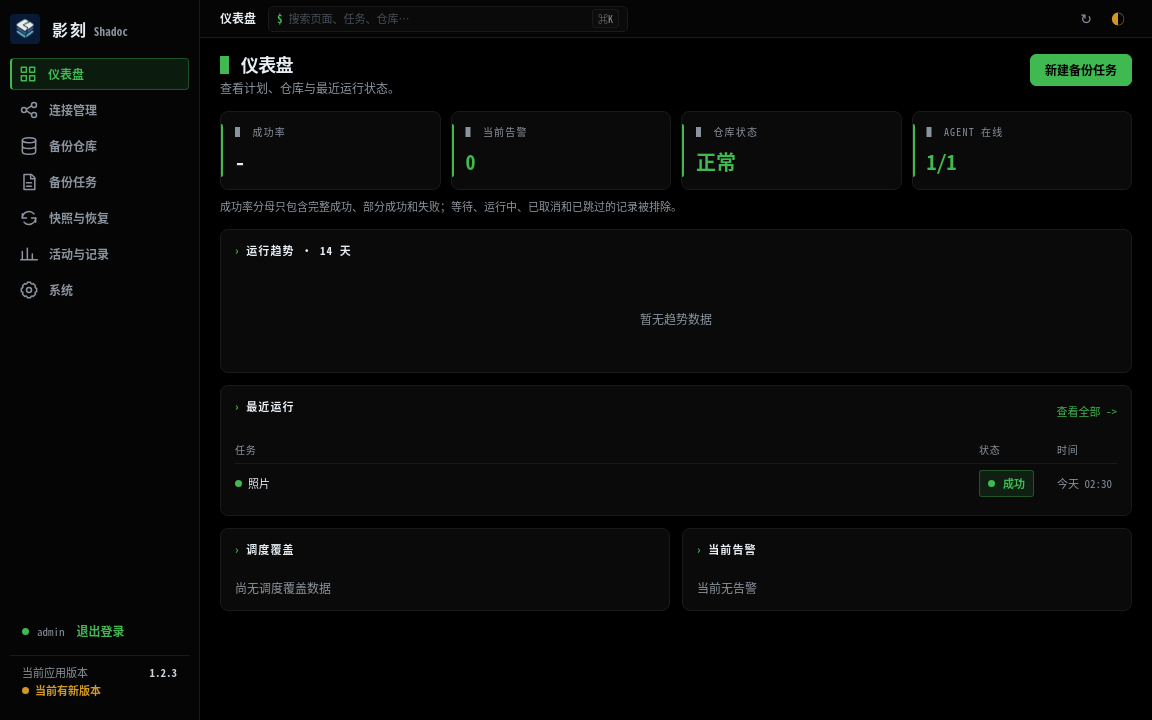
Test case: restic-control administration › restarts a managed Agent to refresh its fixed backup-tool probes
Expected: the heading "仪表盘" is shown, [241,51,293,77]
Step 1. Click the button "连接管理" → (100, 110), box [10,94,189,126]
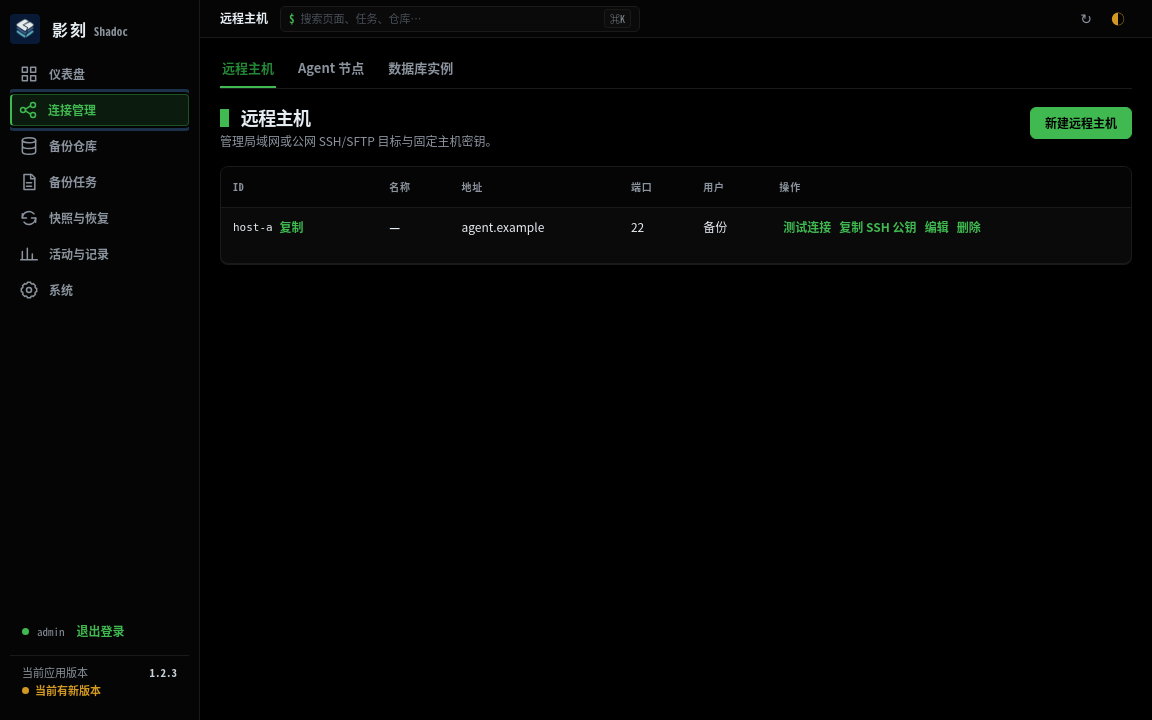
Step 2. Click the tab "Agent 节点" → (331, 69), box [296,50,366,88]
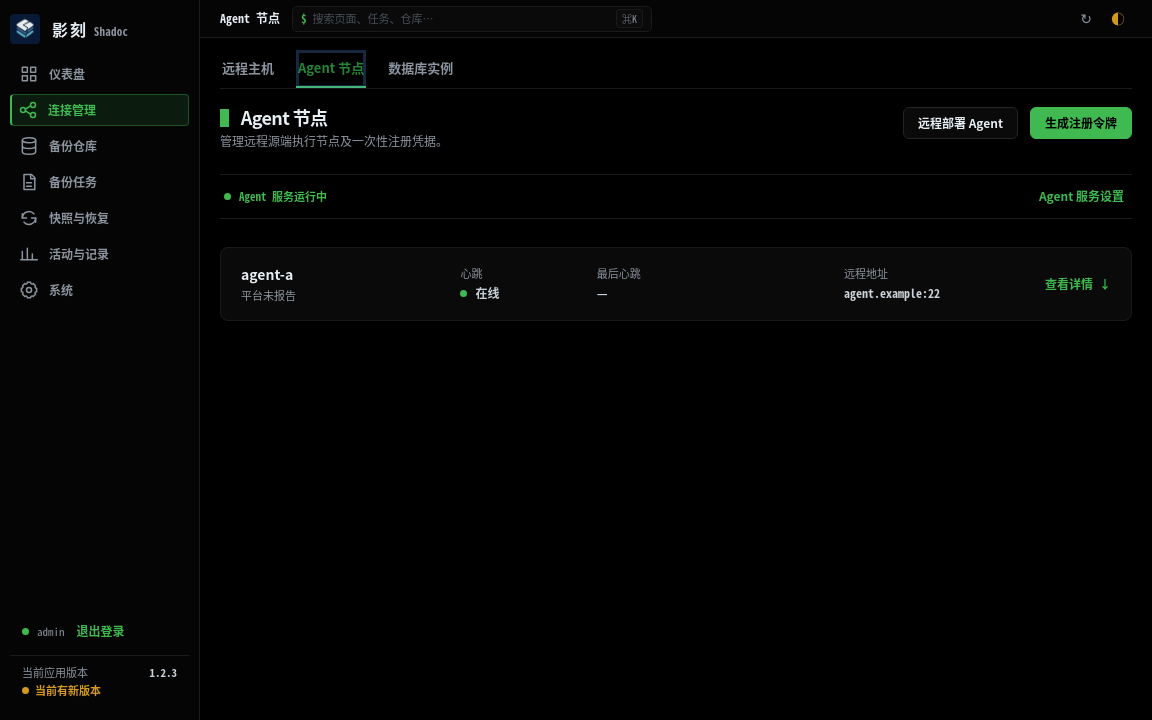
Step 3. Click the button with aria-label "agent-a 查看详情" → (267, 274), box [221,248,1131,320]
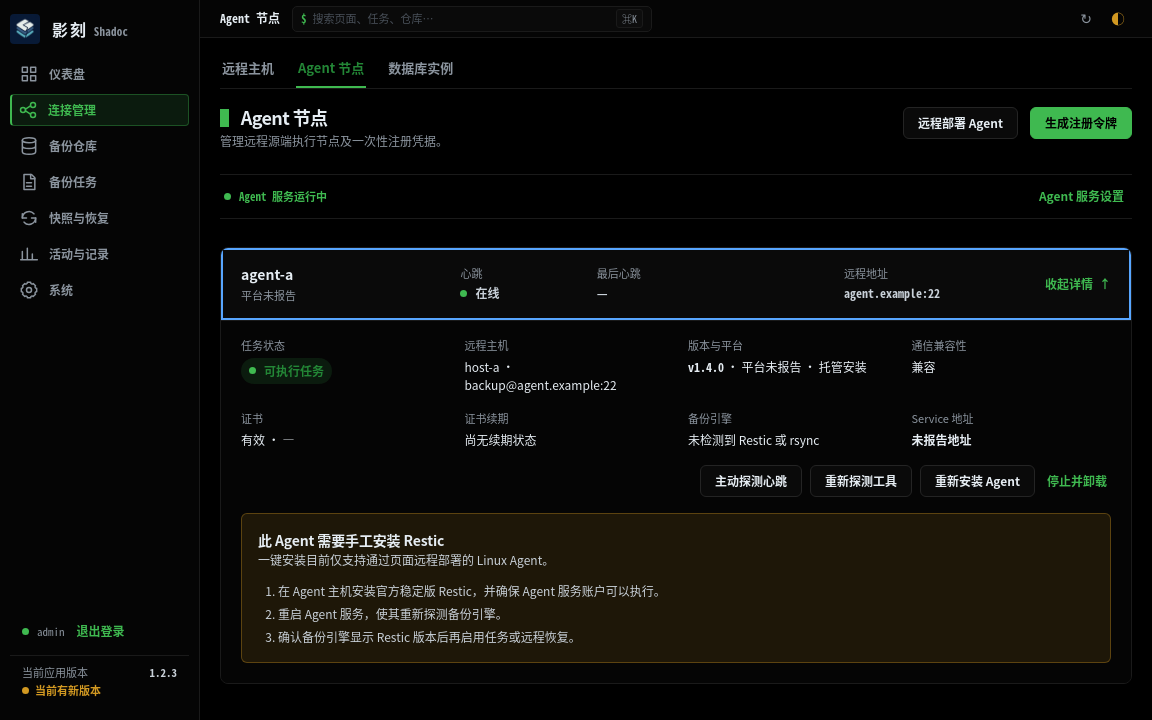
Step 4. Click the button "重新探测工具" → (861, 481), box [810,465,912,497]
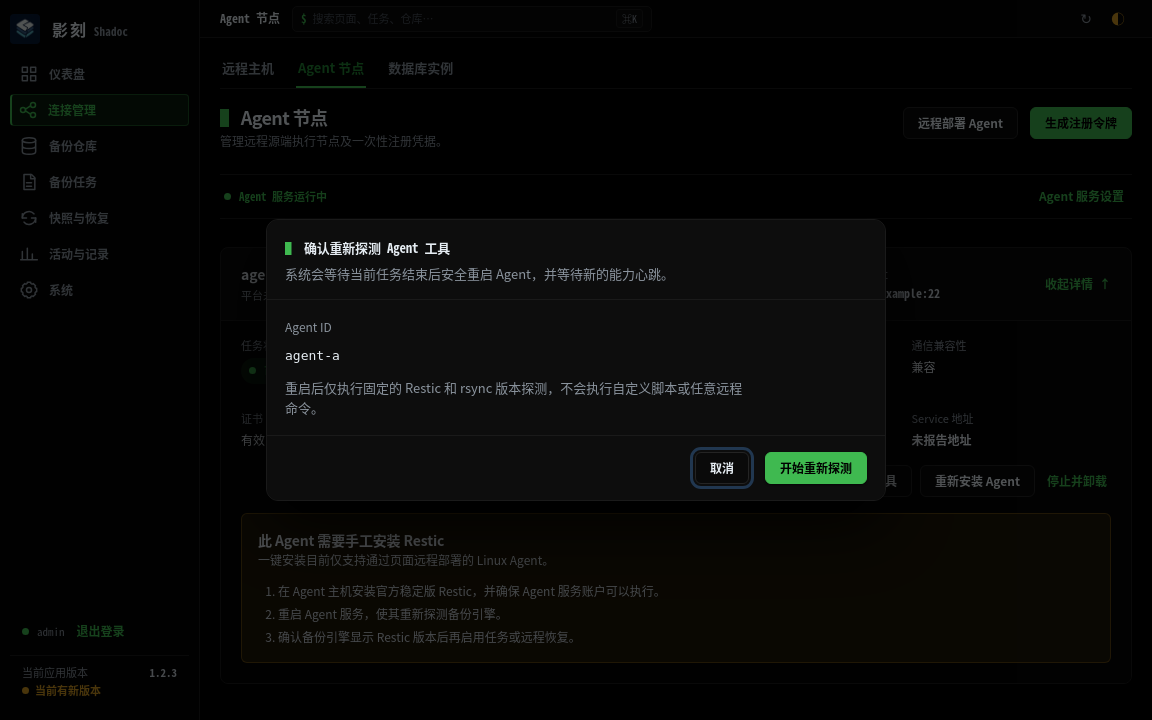
Result: the text "重启后仅执行固定的 Restic 和 rsync 版本探测，不会执行自定义脚本或任意远程命令。" is shown at [285,378,754,417]
Step 5. Click the button "开始重新探测" → (816, 468), box [765,452,867,484]
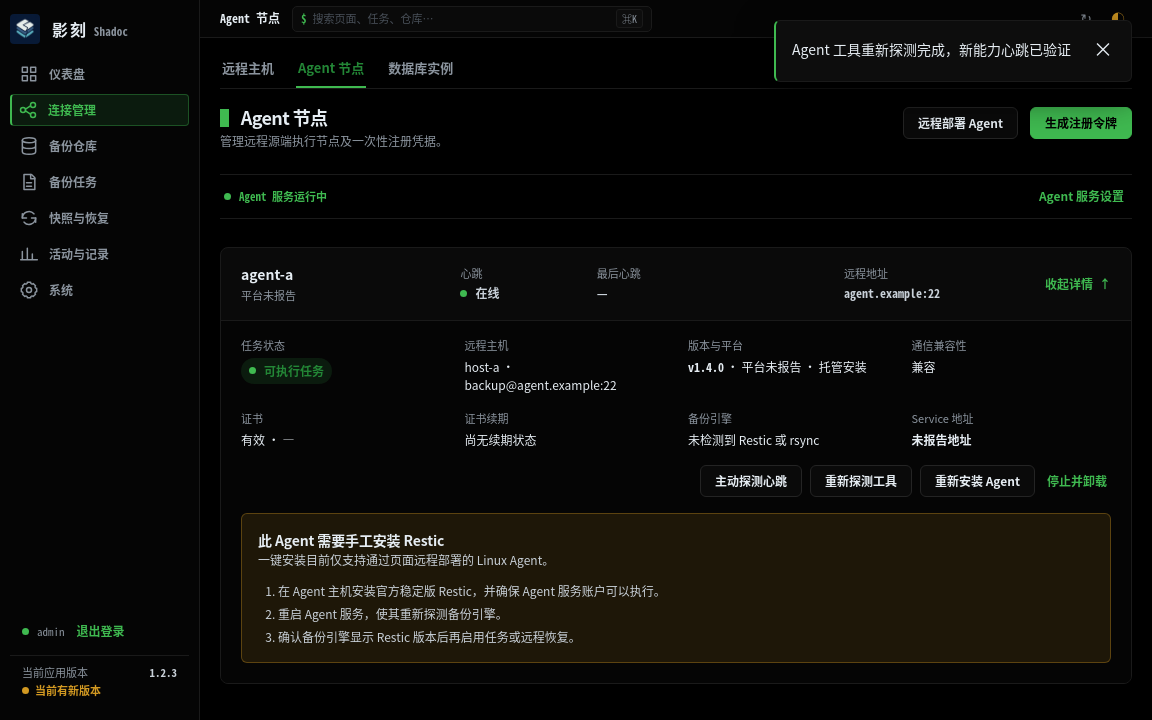
Result: the text "Agent 工具重新探测完成，新能力心跳已验证" is shown at [792,39,1071,59]
